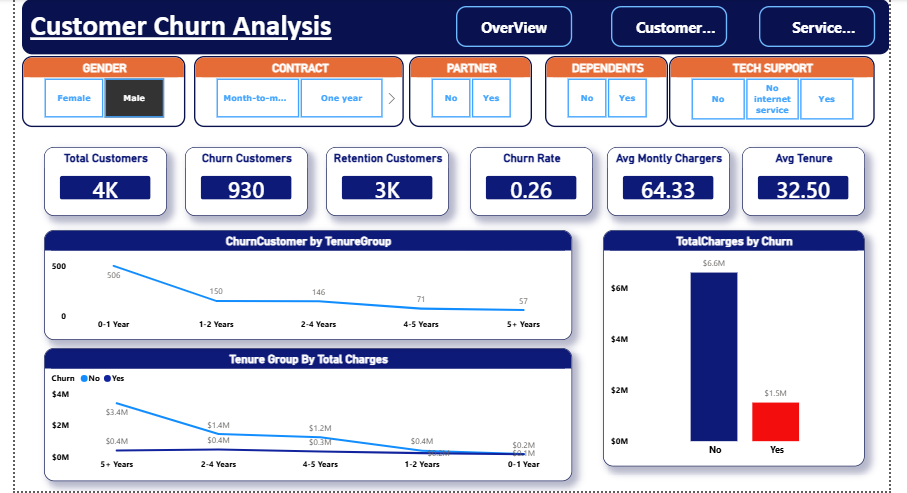

What the dashboard file says about the page in this screenshot:
{"tool":"powerbi","page":{"name":"OverView","canvas":[1280,720],"ordinal":0},"visuals":[{"type":"textbox","box":[10.1,0,1269.9,80.6],"z":0},{"type":"cardVisual","title":"Total Customers","fields":{"Data":["Telco_Customer_Churn.TotalCustomers"]},"box":[42,216.7,179.7,100.8],"z":1000},{"type":"cardVisual","title":"Churn Customers","fields":{"Data":["Telco_Customer_Churn.ChurnCustomer"]},"box":[248.6,216.7,179.7,100.8],"z":2000},{"type":"cardVisual","title":"Retention Customers","fields":{"Data":["Telco_Customer_Churn.retentionCustomer"]},"box":[455.2,216.7,179.7,100.8],"z":3000},{"type":"cardVisual","title":"Churn Rate","fields":{"Data":["Telco_Customer_Churn.churnRate"]},"box":[665.2,216.7,179.7,100.8],"z":4000},{"type":"cardVisual","title":"Avg Montly Chargers","fields":{"Data":["Telco_Customer_Churn.averageMontlyCharges"]},"box":[866.8,216.7,179.7,100.8],"z":5000},{"type":"cardVisual","title":"Avg Tenure","fields":{"Data":["Telco_Customer_Churn.averageTenure"]},"box":[1063.3,216.7,179.7,100.8],"z":6000},{"type":"slicer","title":"GENDER","fields":{"Values":["Telco_Customer_Churn.gender"]},"box":[10.1,84,238.5,104.1],"z":7000},{"type":"slicer","title":"CONTRACT","fields":{"Values":["Telco_Customer_Churn.Contract"]},"box":[262,84,307.4,104.1],"z":8000},{"type":"slicer","title":"PARTNER","fields":{"Values":["Telco_Customer_Churn.Partner"]},"box":[576.2,84,179.7,104.1],"z":9000},{"type":"slicer","title":"DEPENDENTS","fields":{"Values":["Telco_Customer_Churn.Dependents"]},"box":[776.1,84,179.7,104.1],"z":10000},{"type":"slicer","title":"TECH SUPPORT","fields":{"Values":["Telco_Customer_Churn.TechSupport"]},"box":[957.5,84,300.7,104.1],"z":11000},{"type":"actionButton","title":"OverView","box":[645,10.1,169.7,60.5],"z":11001},{"type":"actionButton","title":"OverView","box":[871.8,10.1,169.7,60.5],"z":11002},{"type":"actionButton","title":"OverView","box":[1088.5,10.1,169.7,60.5],"z":11003},{"type":"lineChart","title":"Tenure Group By Total Charges","fields":{"Category":["Telco_Customer_Churn.TenureGroup"],"Y":["Sum(Telco_Customer_Churn.TotalCharges)"],"Series":["Telco_Customer_Churn.Churn"]},"box":[42,510.7,772.7,194.9],"z":11004},{"type":"columnChart","title":"TotalCharges by Churn","fields":{"Y":["Sum(Telco_Customer_Churn.TotalCharges)"],"Category":["Telco_Customer_Churn.Churn"]},"box":[860.1,337.6,383,346],"z":11005},{"type":"lineChart","fields":{"Category":["Telco_Customer_Churn.TenureGroup"],"Y":["Telco_Customer_Churn.ChurnCustomer"]},"box":[42,337.6,772.7,161.3],"z":11006}]}

Visuals, with their boxes on the page's 1280x720 design canvas (x1, y1, x2, y2). These are canvas units, not pixel positions in the 907x493 screenshot, which may show the page scaled, cropped or inside an application window:
textbox: bbox(10, 0, 1280, 81)
"Total Customers" cardVisual: bbox(42, 217, 222, 318)
"Churn Customers" cardVisual: bbox(249, 217, 428, 318)
"Retention Customers" cardVisual: bbox(455, 217, 635, 318)
"Churn Rate" cardVisual: bbox(665, 217, 845, 318)
"Avg Montly Chargers" cardVisual: bbox(867, 217, 1046, 318)
"Avg Tenure" cardVisual: bbox(1063, 217, 1243, 318)
"GENDER" slicer: bbox(10, 84, 249, 188)
"CONTRACT" slicer: bbox(262, 84, 569, 188)
"PARTNER" slicer: bbox(576, 84, 756, 188)
"DEPENDENTS" slicer: bbox(776, 84, 956, 188)
"TECH SUPPORT" slicer: bbox(958, 84, 1258, 188)
"OverView" actionButton: bbox(645, 10, 815, 71)
"OverView" actionButton: bbox(872, 10, 1042, 71)
"OverView" actionButton: bbox(1088, 10, 1258, 71)
"Tenure Group By Total Charges" lineChart: bbox(42, 511, 815, 706)
"TotalCharges by Churn" columnChart: bbox(860, 338, 1243, 684)
lineChart - Telco_Customer_Churn.TenureGroup x Telco_Customer_Churn.ChurnCustomer: bbox(42, 338, 815, 499)
